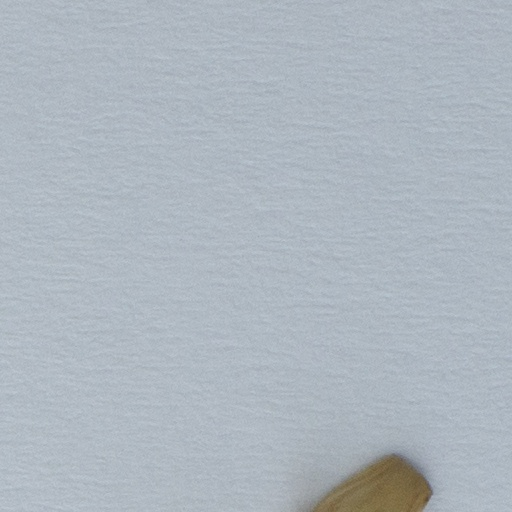Peel-poly: (307, 457, 434, 511)
